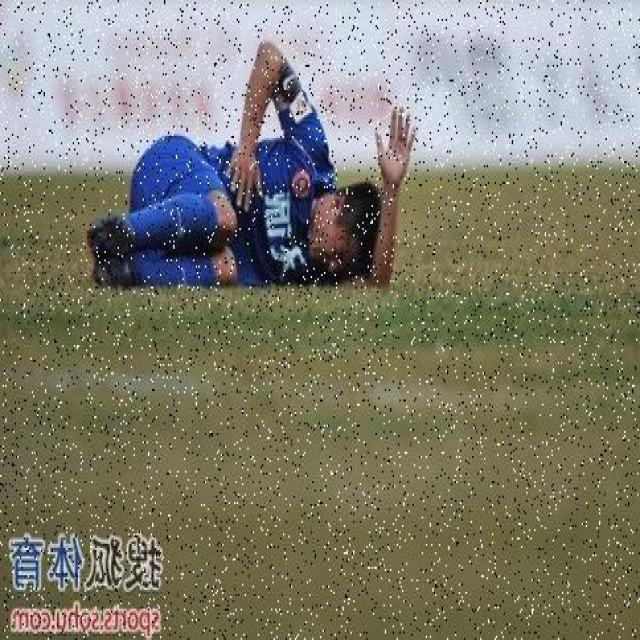fall: (86, 44, 422, 286)
